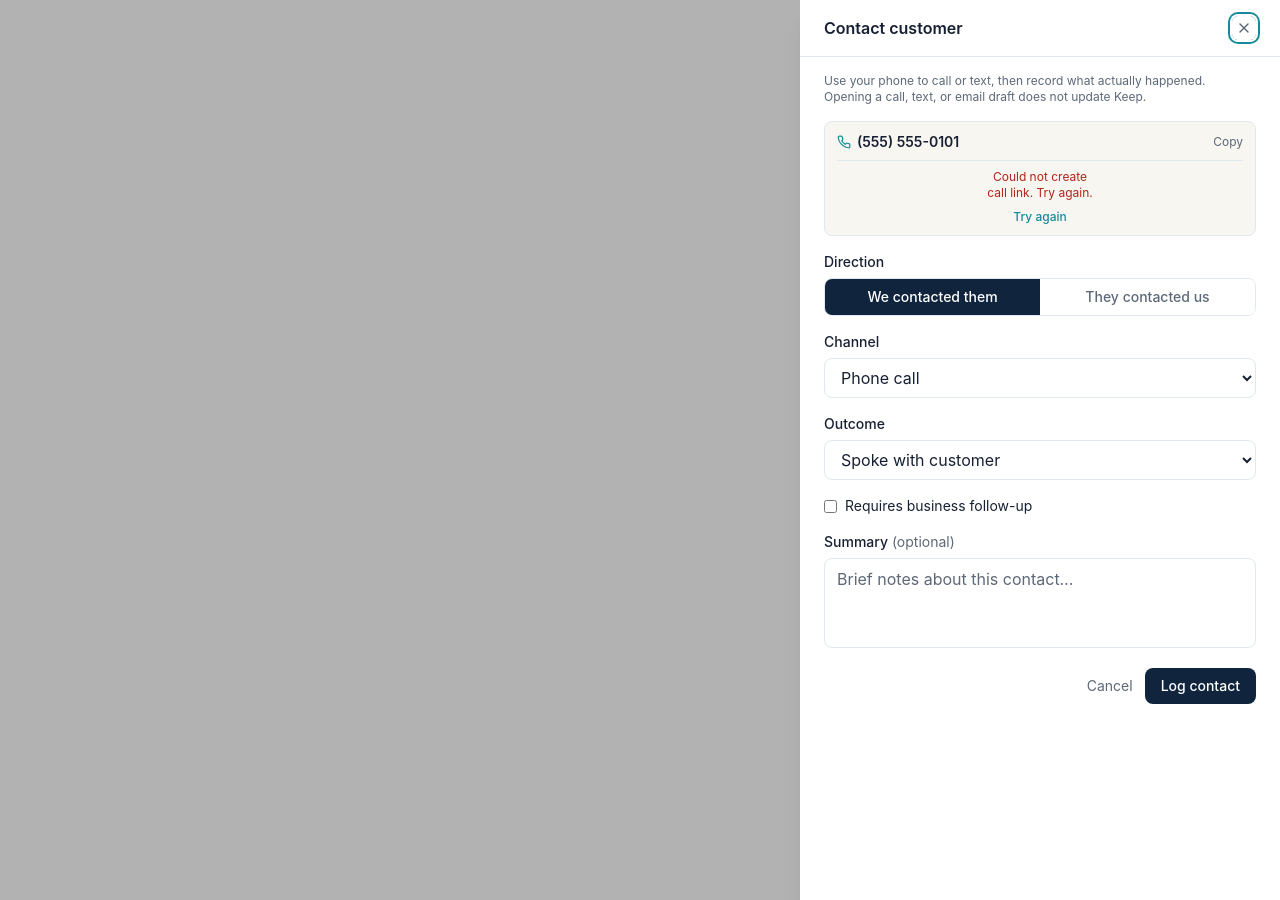
Test case: LogContactModal — dirty-close contract › traps Tab between the two confirm buttons and Escape closes only the confirmation
Type "Spoke with customer" into the text box with placeholder "Brief notes about this contact…" at (1040, 603), box x1=824 y1=558 x2=1256 y2=648
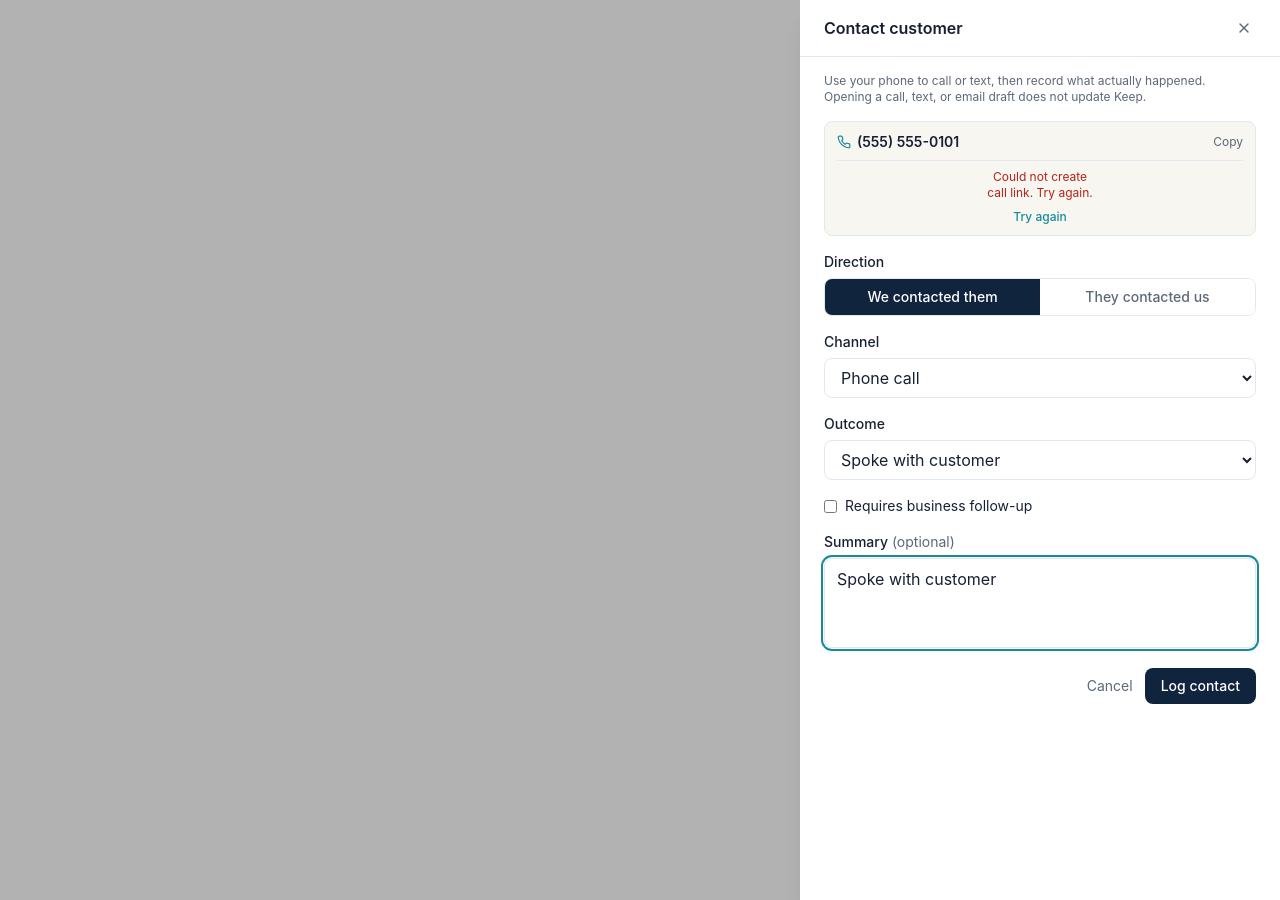
Click the button named "Close" at (1244, 28), box x1=1232 y1=16 x2=1256 y2=40
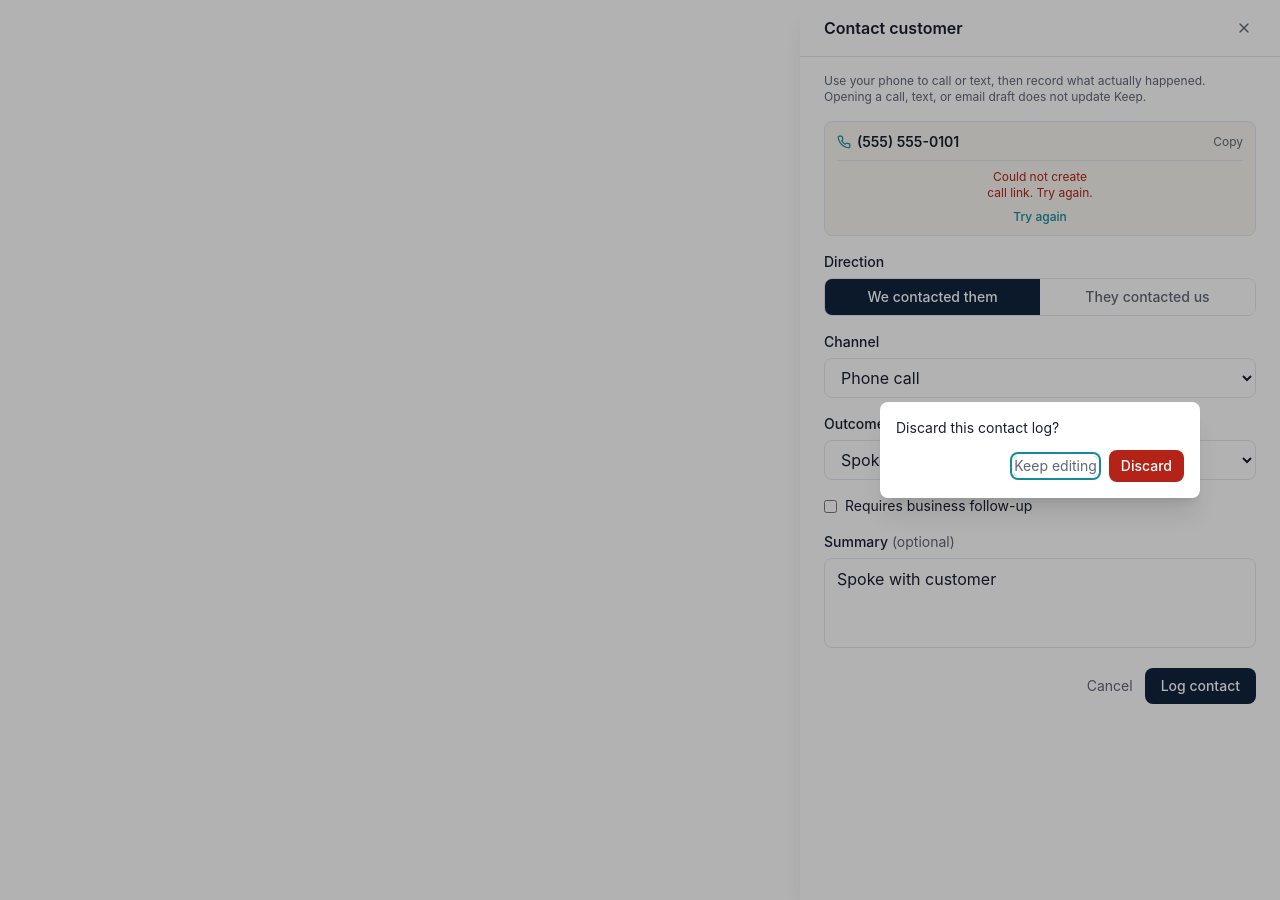
Press Tab
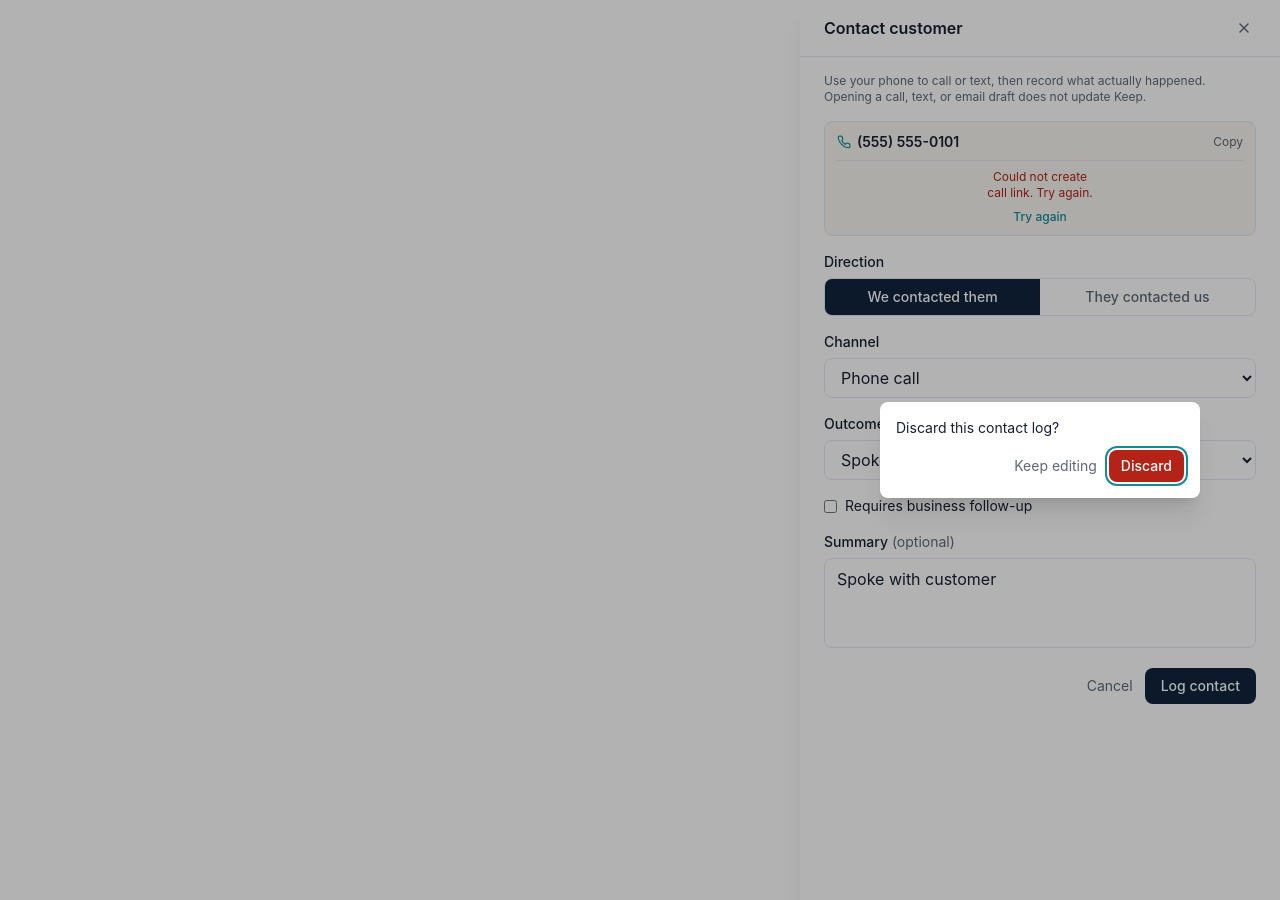
Press Tab
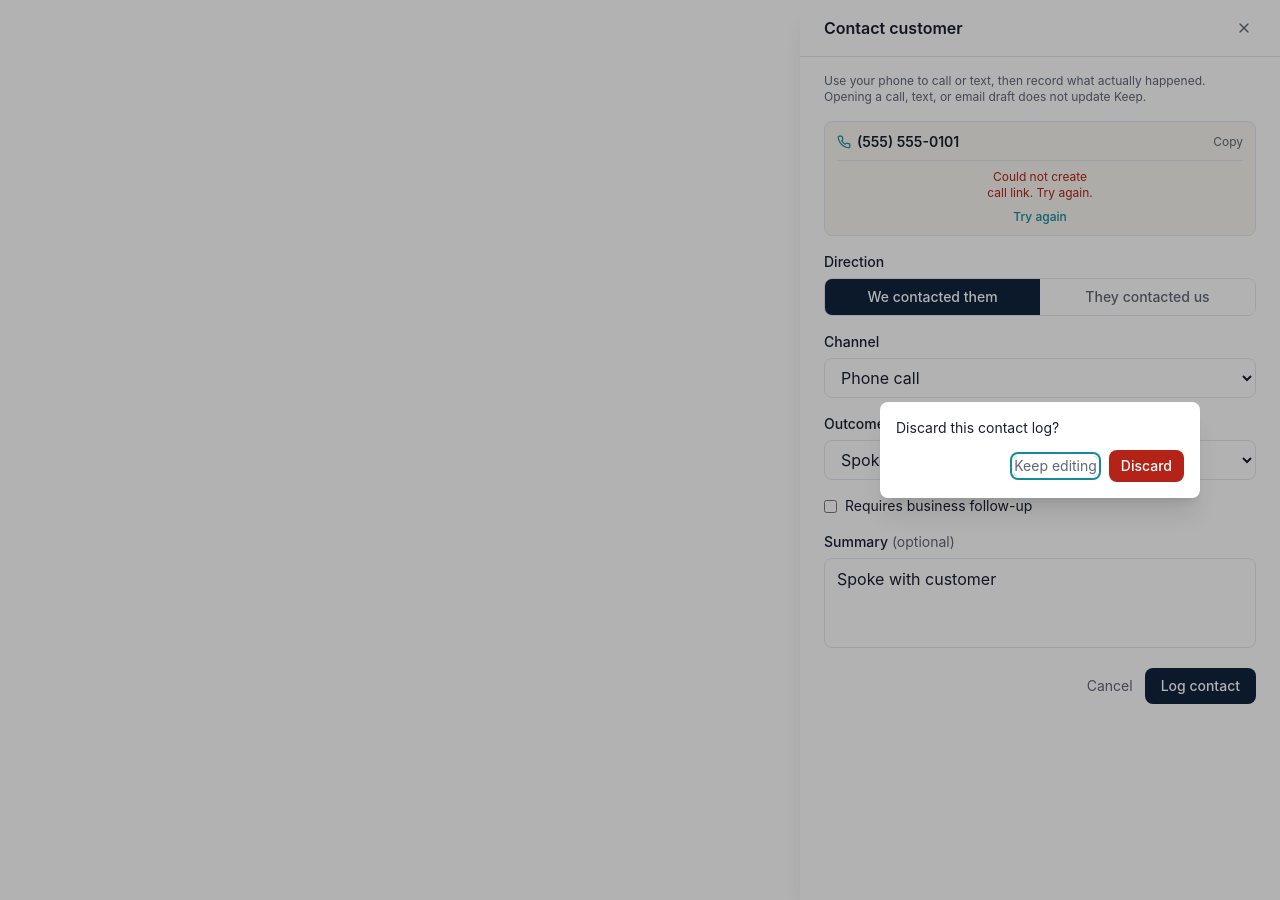
Press Escape
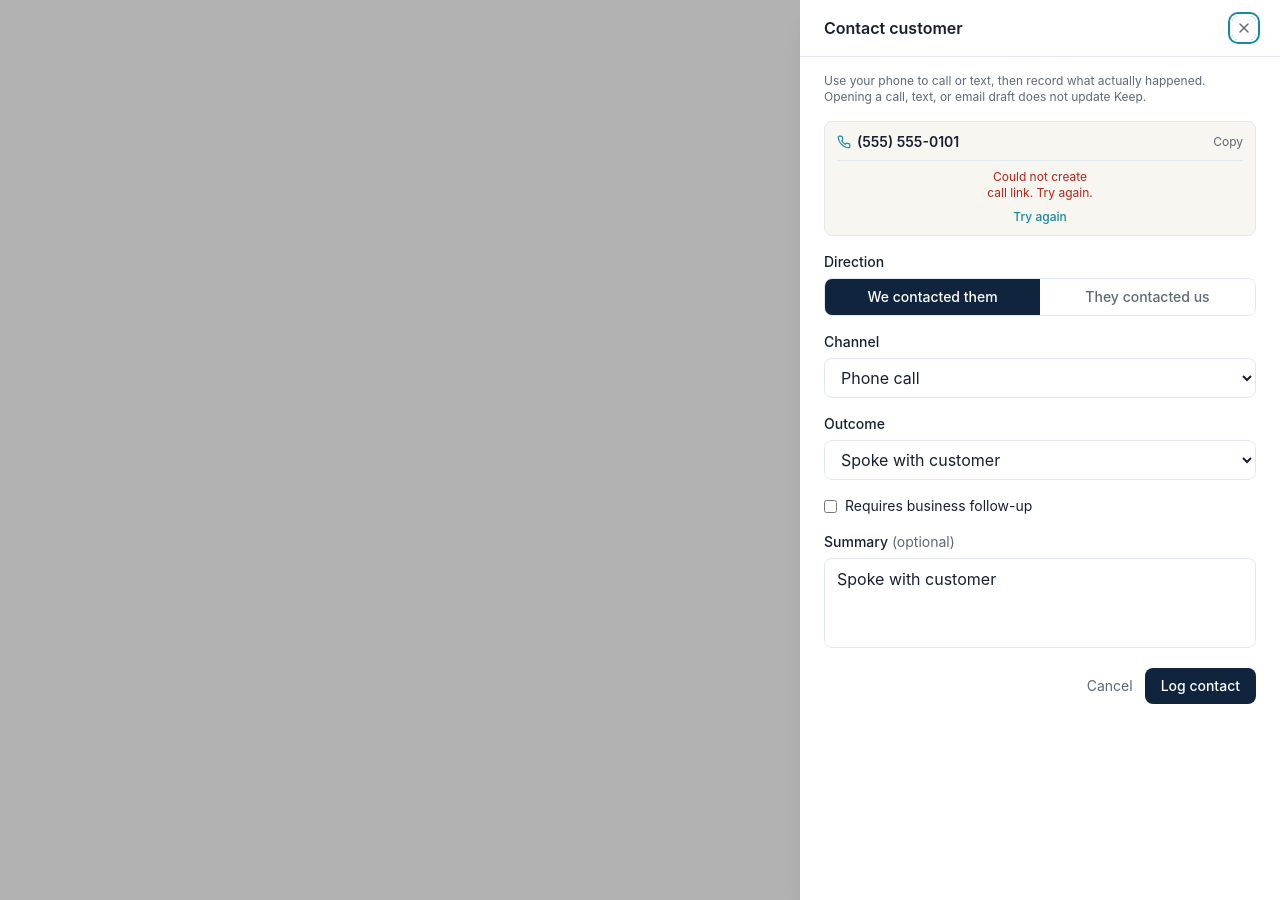
Check: the dialog "Discard this contact log? Keep editing Discard" is gone
